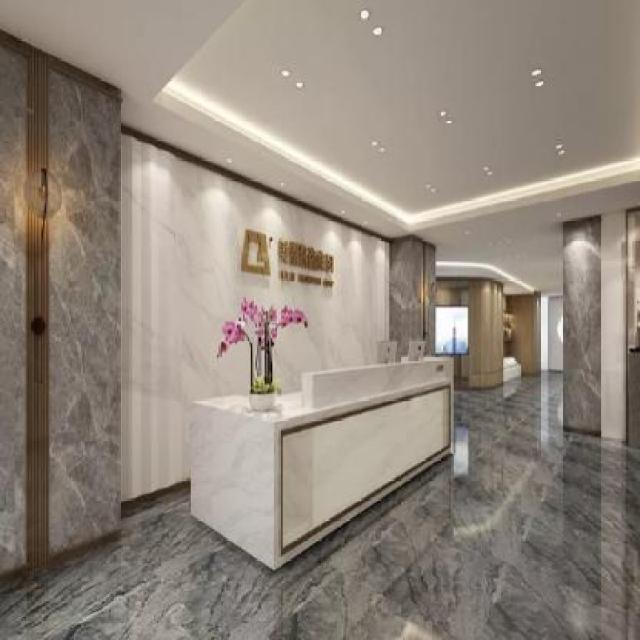frontdesk: (186, 352, 456, 580)
